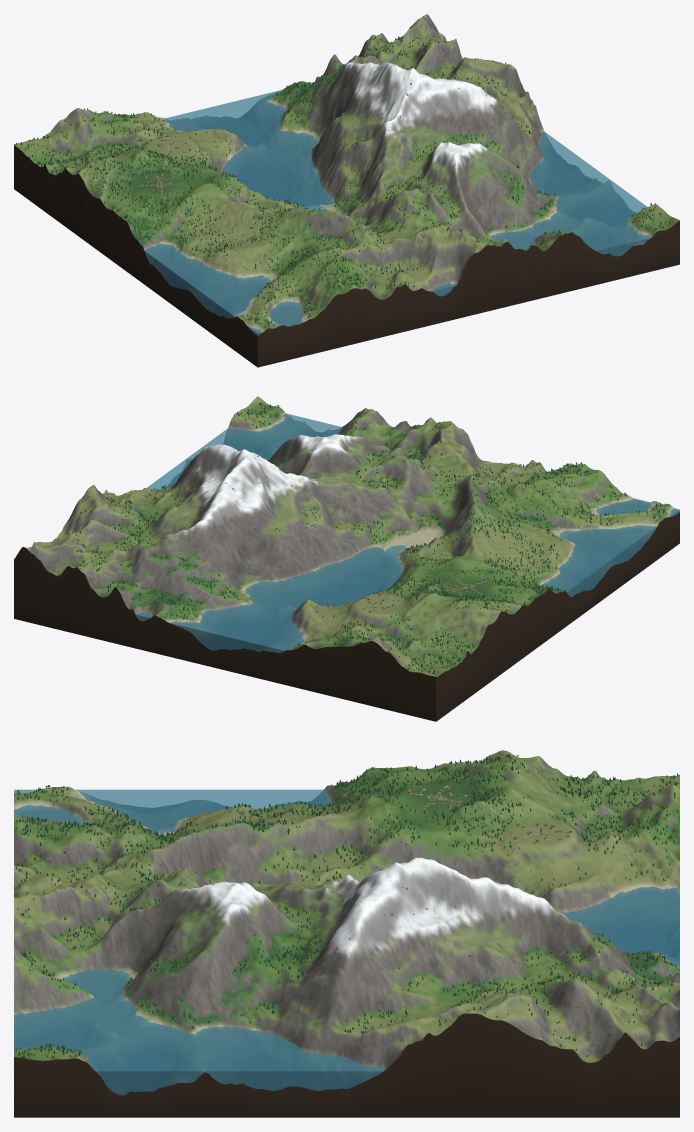
Rendered from map.glb.
The picture shows the model from 3 angles, top to bottom: view 1: azimuth 30°, elevation 25°; view 2: azimuth 150°, elevation 25°; view 3: azimuth 270°, elevation 25°; orthographic projection. The views are drawn at different scales.
Visible parts, largest first — view 1: Terrain, Base, Water, Trees; view 2: Terrain, Base, Water, Trees; view 3: Terrain, Base, Water, Trees, Boulders.
Boxes of the visible parts, x1,y1,x2,y2 form: Terrain: (14, 14, 679, 335); Base: (14, 144, 679, 367); Water: (144, 82, 651, 335); Trees: (16, 36, 670, 328); Terrain: (24, 396, 679, 676); Base: (14, 512, 679, 721); Water: (135, 413, 679, 652); Trees: (53, 402, 669, 675); Terrain: (14, 750, 679, 1094); Base: (14, 1013, 679, 1117); Water: (14, 789, 679, 1095); Trees: (15, 752, 678, 1058); Boulders: (21, 760, 678, 1056).
Size of the model in its own units: 2000 by 565 by 2000.
